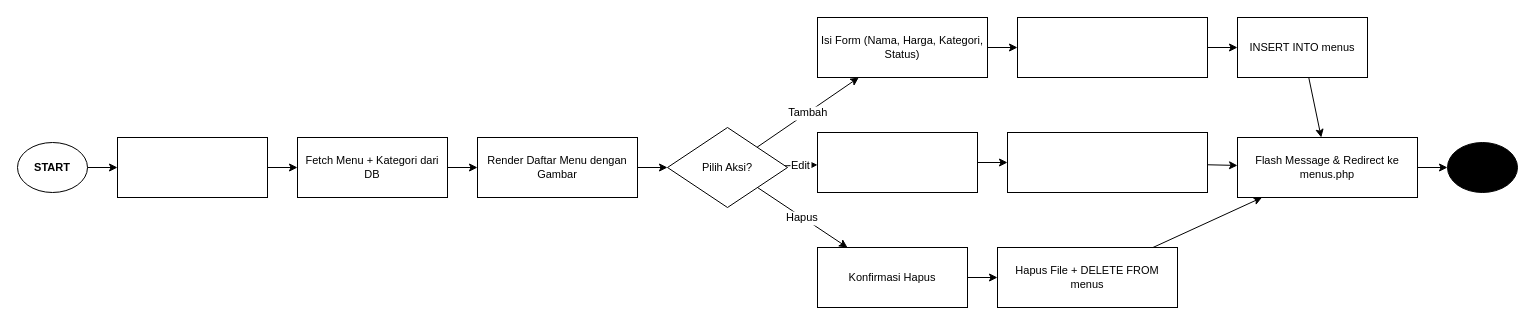
Some shapes in this 1535 by 325 pixel diagram are drawn without their labels. The box of each missing label's shape, as (x1, y1, x2, y2) in pixels:
Buka Halaman Manajemen Menu: (116, 136, 268, 198)
END: (1446, 142, 1518, 192)
Load Data & Update Form: (816, 132, 978, 192)
UPDATE menus (Nama, Harga, Gambar, Status): (1006, 132, 1208, 192)
Upload Gambar → Validasi MIME → convertToWebp(): (1016, 16, 1208, 78)
